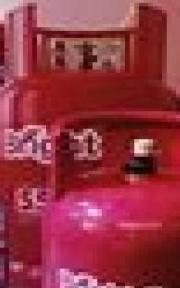cylinder: (1, 1, 180, 288)
